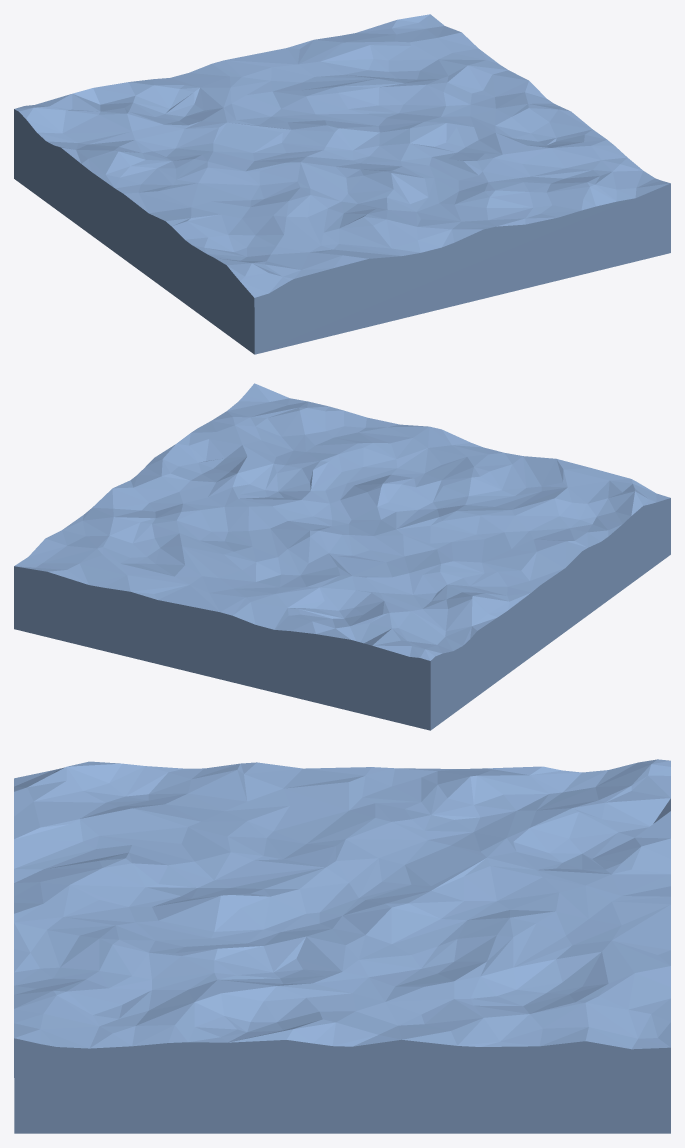
File: ocean_water.fbx
3 renders of one model, top to bottom at view 1: azimuth 30°, elevation 25°; view 2: azimuth 150°, elevation 25°; view 3: azimuth 270°, elevation 25°, orthographic. The views are drawn at different scales.
Visible parts, largest first — view 1: pPlane1; view 2: pPlane1; view 3: pPlane1.
Part boxes in pixels (x1=…): pPlane1: x1=14, y1=14, x2=670, y2=354; pPlane1: x1=14, y1=383, x2=670, y2=730; pPlane1: x1=14, y1=759, x2=670, y2=1133.
Bounding box in the file's own units: 24 × 4.11 × 24.
